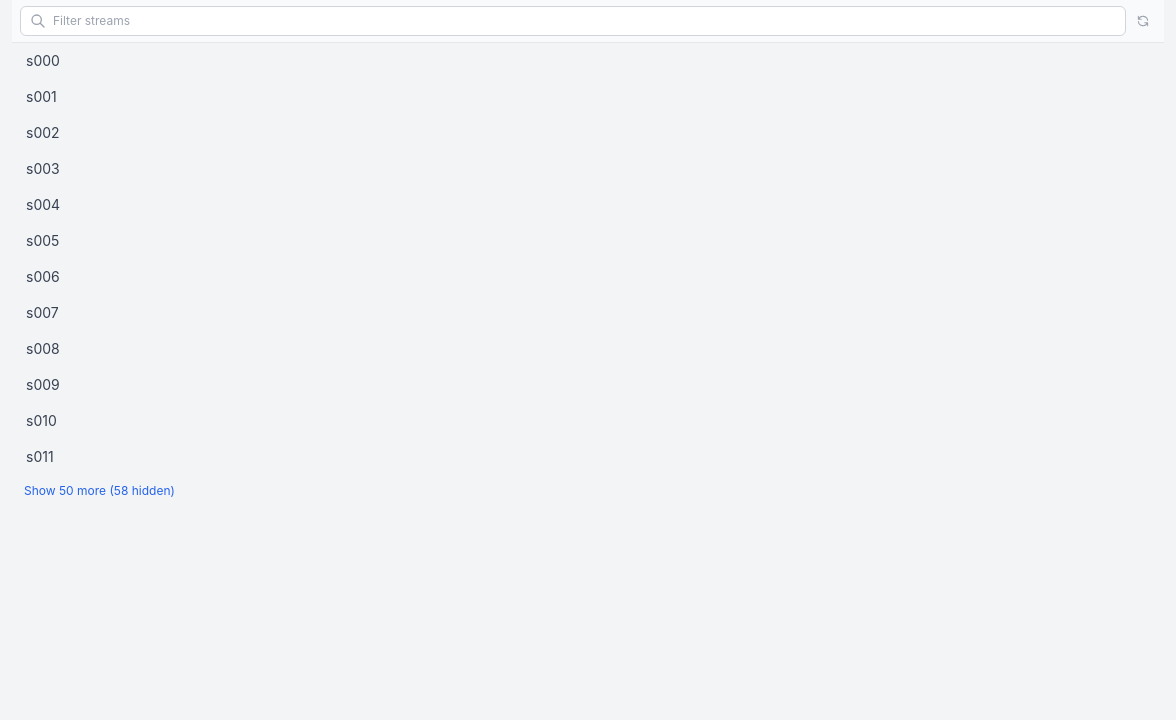
SidebarResourceList › shows 12 first, then 50 more at a time
Click the button with test id "sidebar-show-more". click: (41, 490)
box: top-left (12, 475), bottom-right (1164, 507)
(page scrolled)
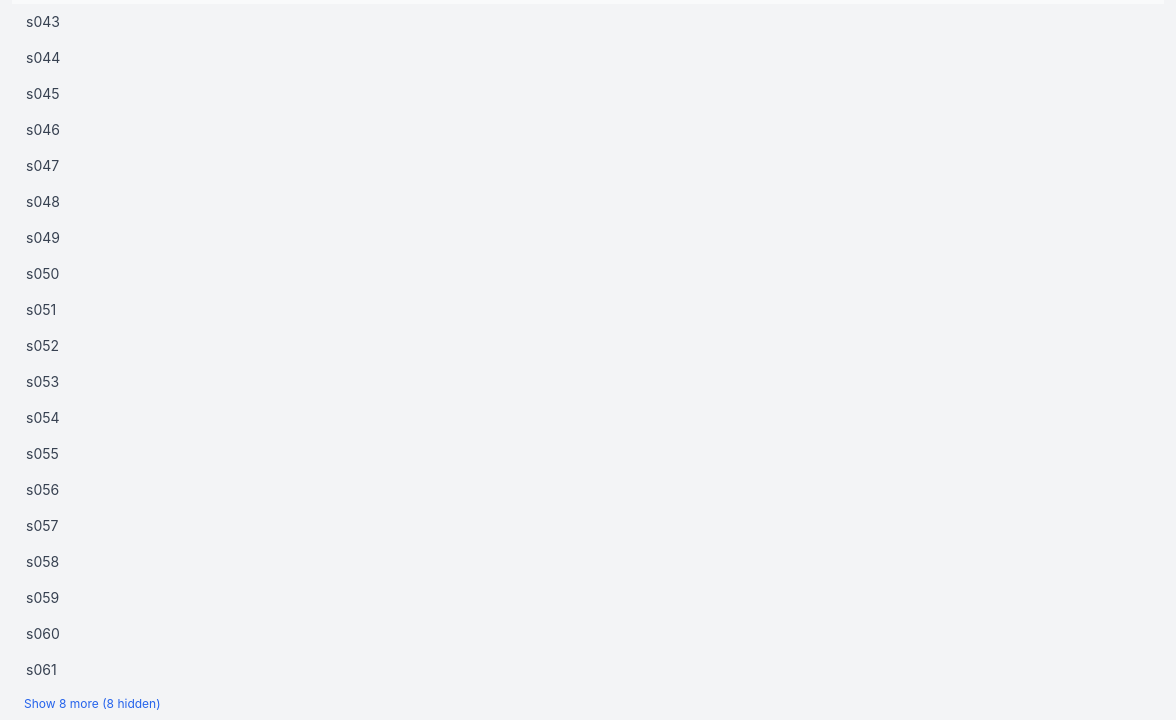
Check: the button with test id "sidebar-show-more" reads "Show 8 more (8 hidden)"
Click the button with test id "sidebar-show-more". click: (41, 704)
box: top-left (12, 688), bottom-right (1164, 719)
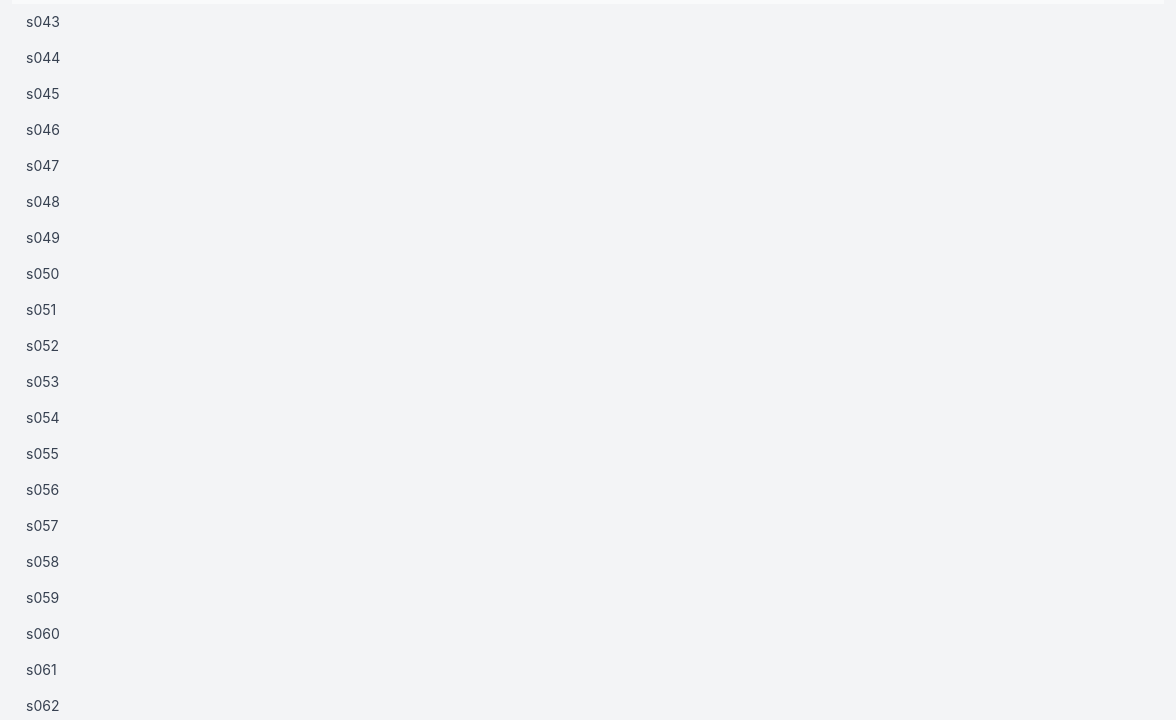
Check: the button with test id "sidebar-show-more" is gone
